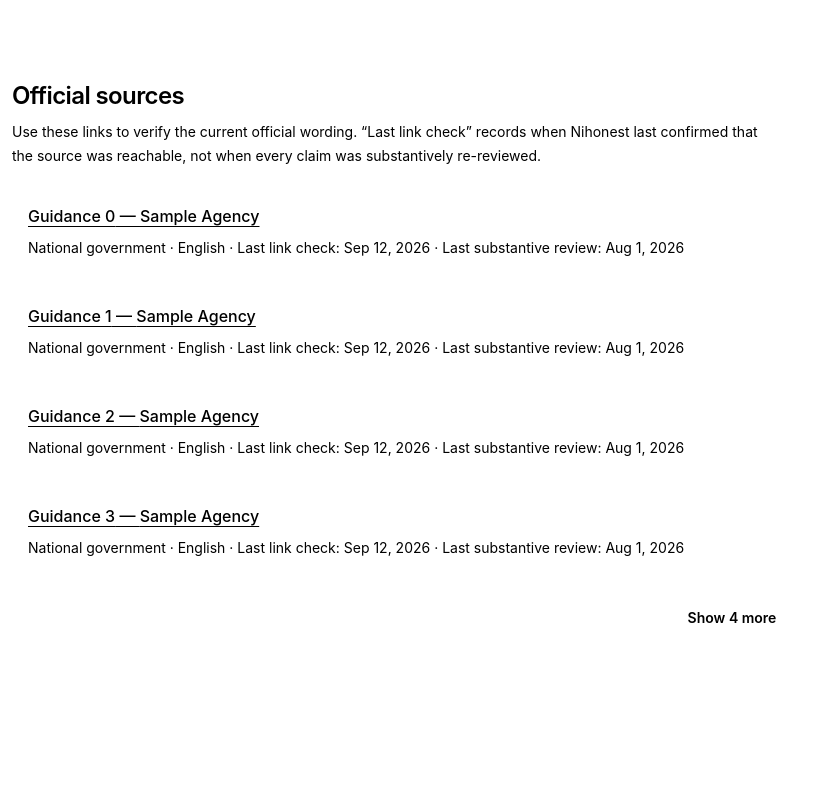
it: OfficialSourceList › shows long lists in batches of four
This screenshot has width=813, height=810.
Expected: the number of links is 4, top-left (28, 206), bottom-right (260, 226); top-left (28, 306), bottom-right (256, 326); top-left (28, 406), bottom-right (259, 426); top-left (28, 506), bottom-right (259, 526)
Click the button "Show 4 more": (732, 618) top-left (668, 596), bottom-right (796, 640)
(page scrolled)
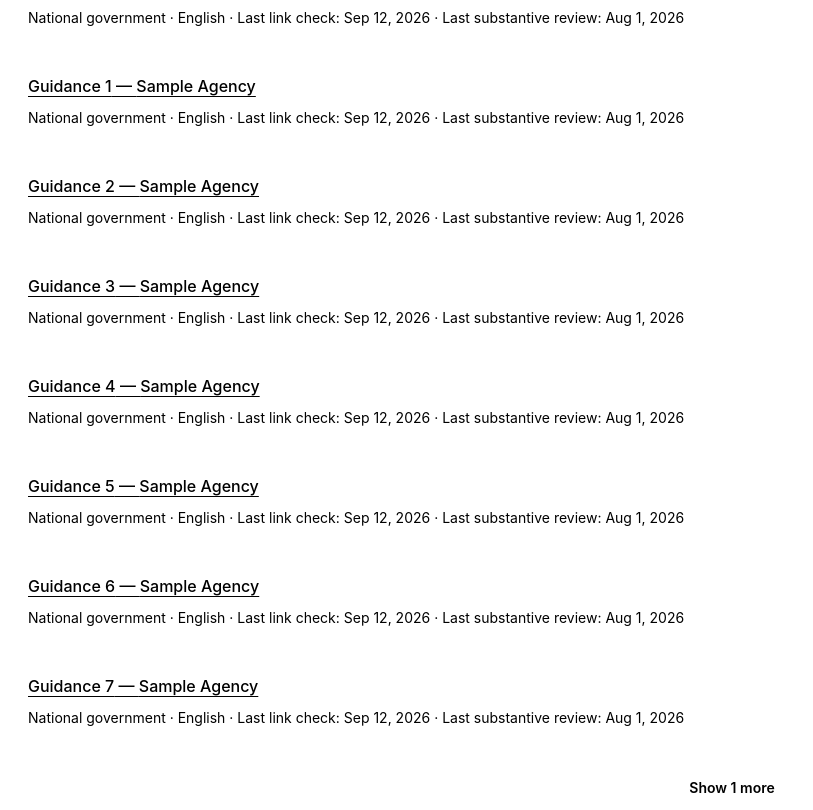
Expected: the number of links is 8
Click the button "Show 1 more": (732, 788) top-left (669, 766), bottom-right (795, 809)
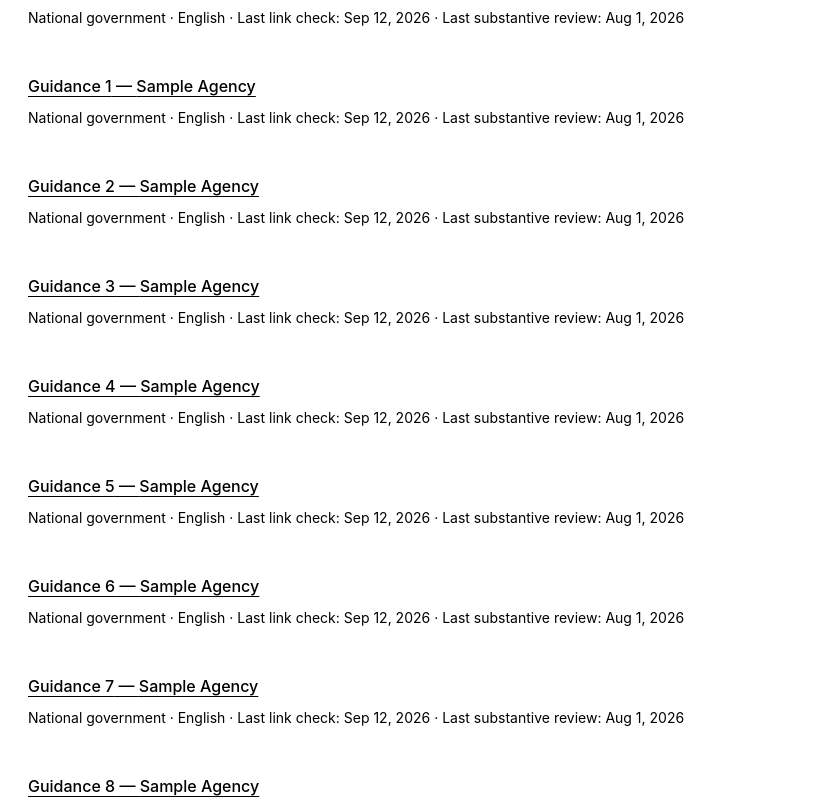
Expected: the button "Show 1 more" is gone
